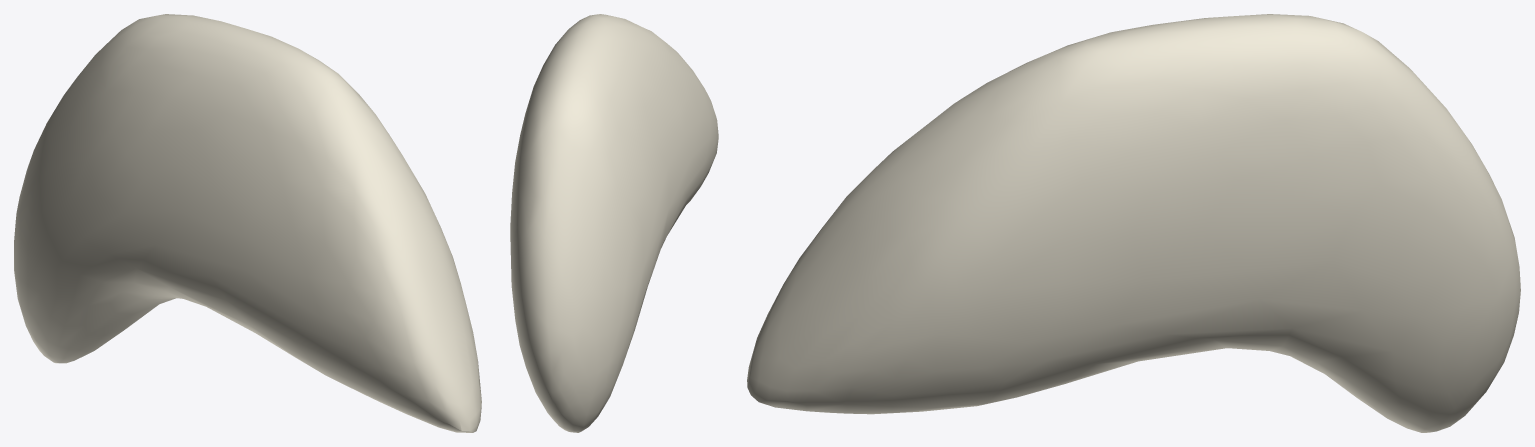
File: fma59508_mm2113m.glb
The picture shows the model from 3 angles, left to right: view 1: azimuth 30°, elevation 25°; view 2: azimuth 150°, elevation 25°; view 3: azimuth 270°, elevation 25°; orthographic projection. The views are drawn at different scales.
Visible parts, largest first — view 1: FMA59508_MM2113M; view 2: FMA59508_MM2113M; view 3: FMA59508_MM2113M.
Boxes of the visible parts, x1,y1,x2,y2 form: FMA59508_MM2113M: [14, 14, 481, 432]; FMA59508_MM2113M: [510, 14, 718, 432]; FMA59508_MM2113M: [747, 14, 1520, 432].
Size of the model in its own units: 0.00428 by 0.00673 by 0.0102.
